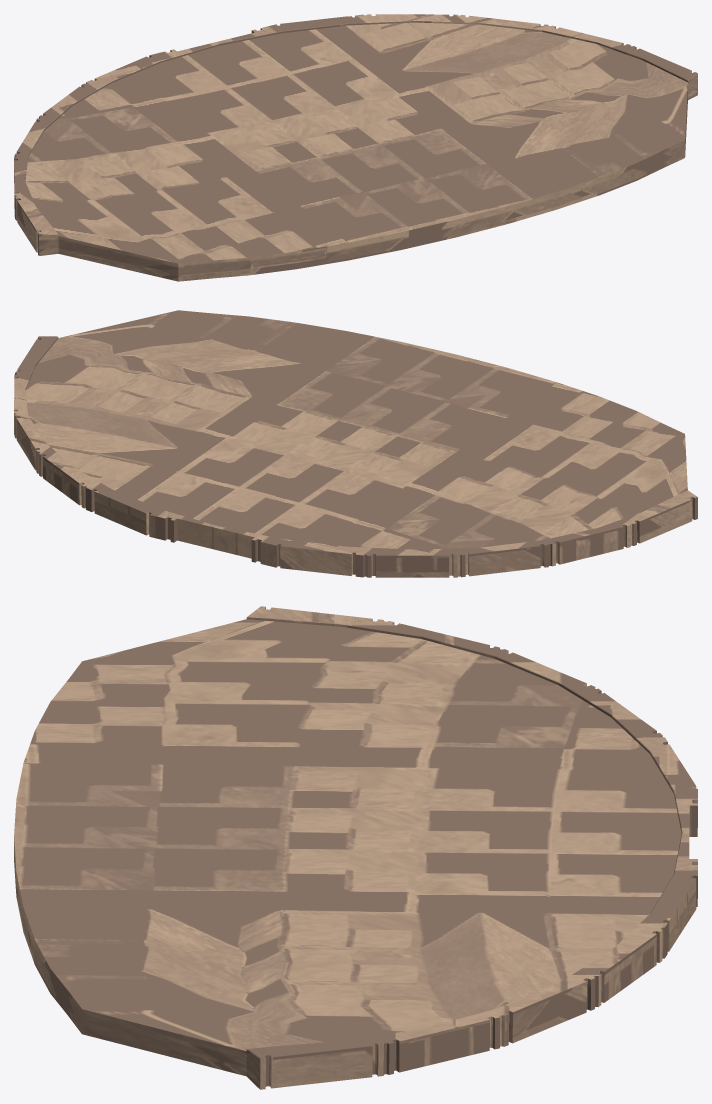
Rendered from scaffold.fbx.
3 views of the same model, one above another, from view 1: azimuth 30°, elevation 25°; view 2: azimuth 150°, elevation 25°; view 3: azimuth 270°, elevation 25° (orthographic). The views are drawn at different scales.
Visible parts, largest first — view 1: scaffold; view 2: scaffold; view 3: scaffold.
Part boxes in pixels (x1=…): scaffold: x1=14, y1=14, x2=697, y2=281; scaffold: x1=14, y1=310, x2=697, y2=577; scaffold: x1=14, y1=606, x2=697, y2=1089.
Bounding box in the file's own units: 1718 × 55.05 × 1097.
